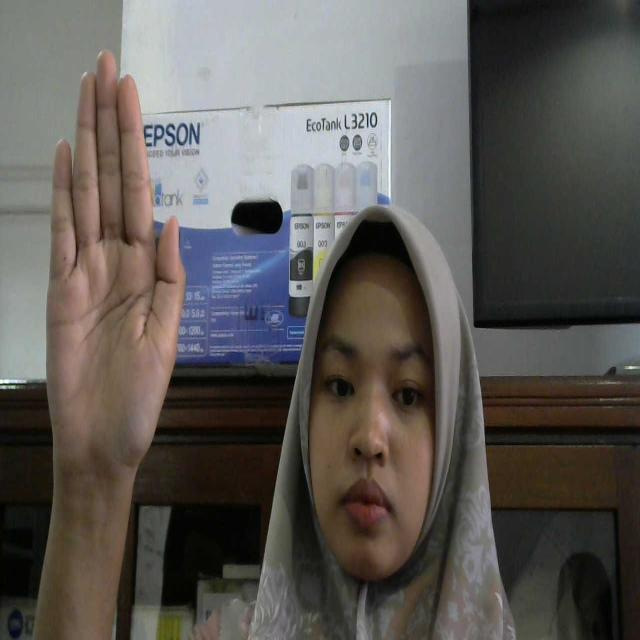hand: (38, 39, 189, 548)
